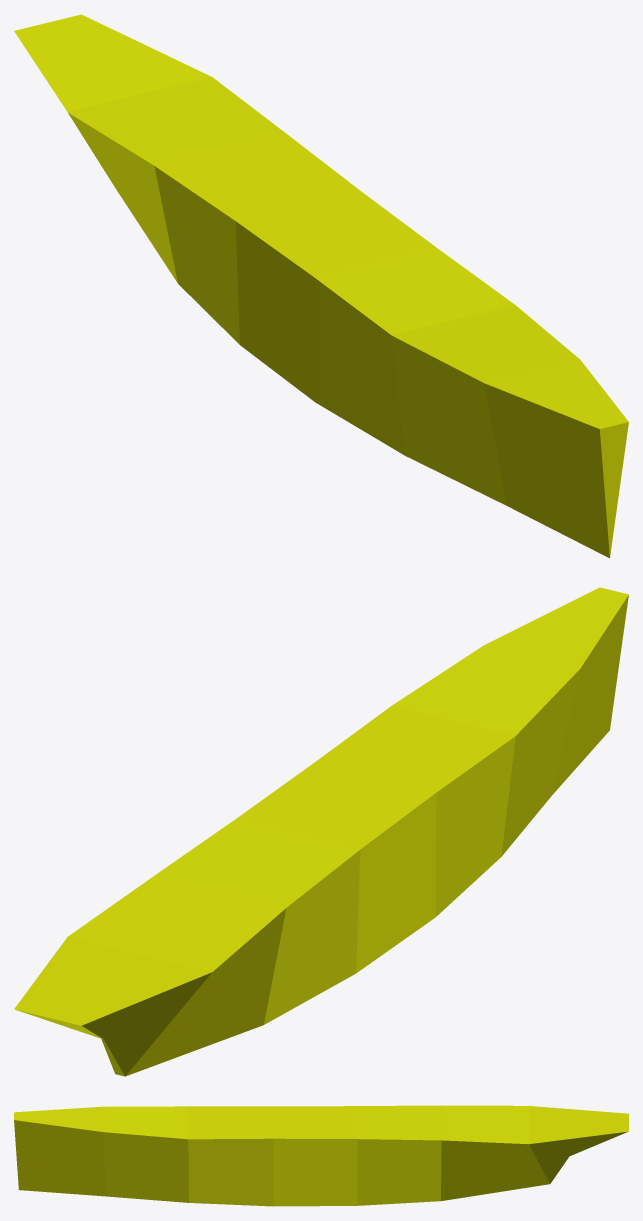
Rendered from AvaMariaPhysicsLowPoly00.fbx.
The picture shows the model from 3 angles, top to bottom: view 1: azimuth 30°, elevation 25°; view 2: azimuth 150°, elevation 25°; view 3: azimuth 270°, elevation 25°; orthographic projection. The views are drawn at different scales.
Parts seen in each view (by area): view 1: AvaMariaPhysics.001; view 2: AvaMariaPhysics.001; view 3: AvaMariaPhysics.001.
Boxes of the visible parts, x1,y1,x2,y2 form: AvaMariaPhysics.001: (14, 14, 628, 558); AvaMariaPhysics.001: (14, 587, 628, 1076); AvaMariaPhysics.001: (14, 1105, 628, 1206).
Size of the model in its own units: 1932 by 1749 by 13103.
